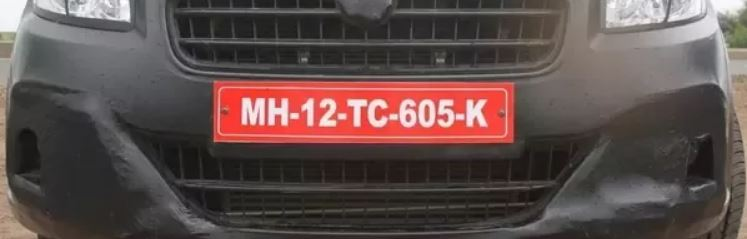number_plate: (216, 78, 513, 140)
